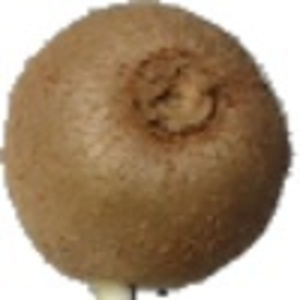kiwi: (1, 1, 293, 300)
